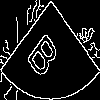B: (24, 24, 66, 81)
